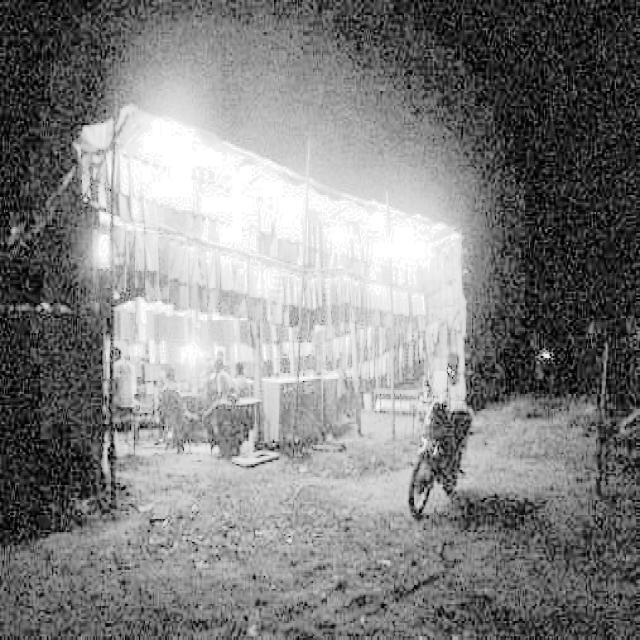Motorcycle: (402, 373, 508, 529)
Person: (152, 334, 205, 455), (209, 346, 248, 444)
